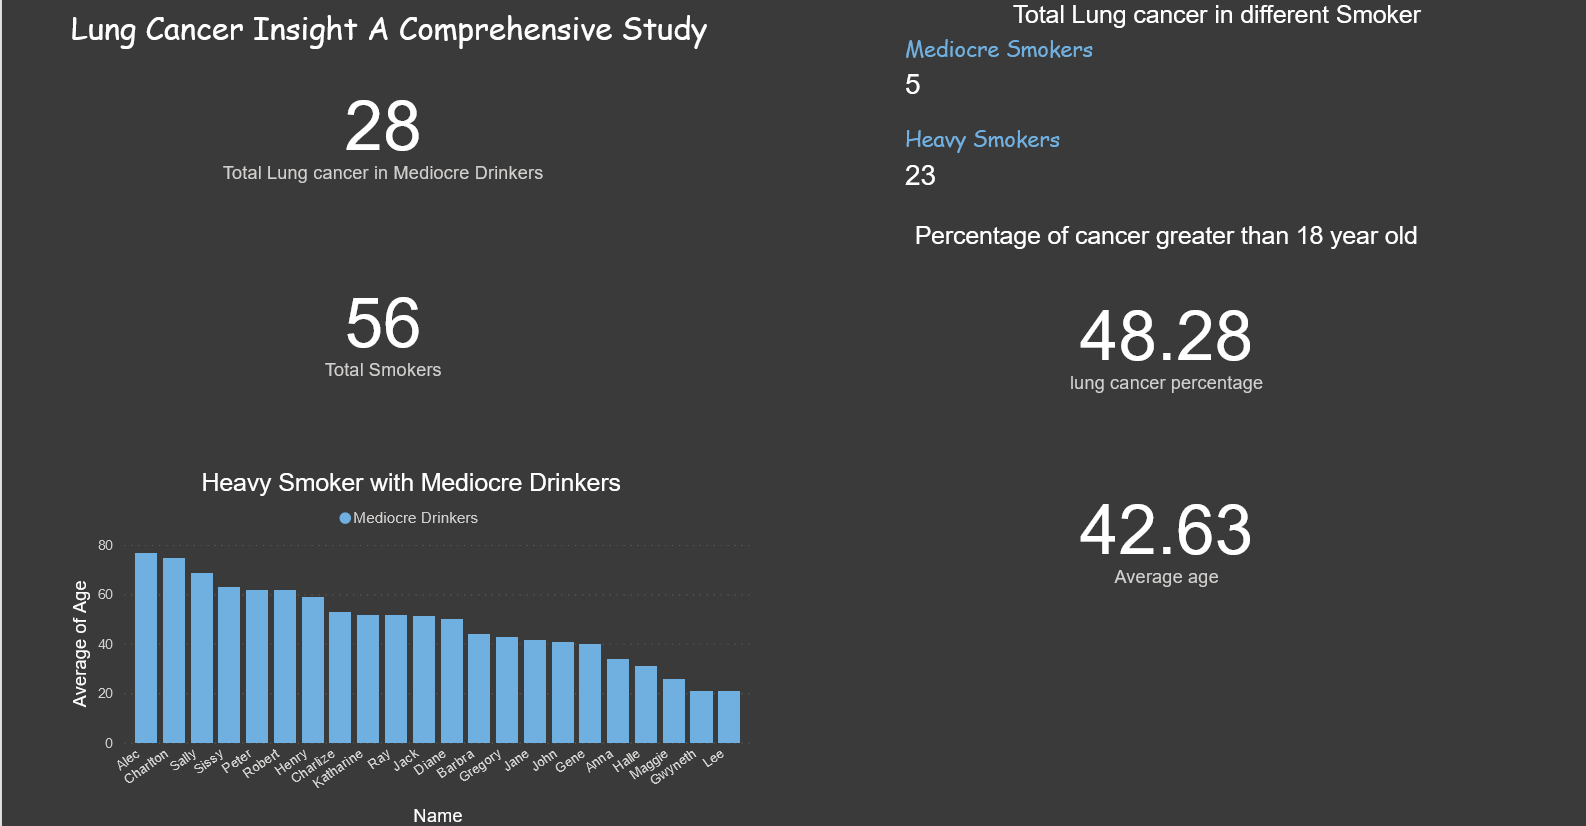

The dashboard page shown, as its layout file describes it:
{"tool":"powerbi","page":{"name":"Page 1","canvas":[1280,720],"ordinal":0},"visuals":[{"type":"textbox","box":[9.6,0,599.1,57.6],"z":0},{"type":"card","fields":{"Values":["cancer with different Alchol.lung_cancer_count"]},"box":[9.6,57.6,549.8,109.7],"z":1},{"type":"multiRowCard","title":"Total Lung cancer in different Smoker","fields":{"Values":["cancer with different Smoker.Smoking_Category","cancer with different Smoker.lung_cancer_count"]},"box":[730.8,0,549.8,191.9],"z":2},{"type":"columnChart","title":"Heavy Smoker with Mediocre Drinkers","fields":{"Category":["Heavy Smoker and mediocre Drink.Name"],"Y":["Heavy Smoker and mediocre Drink.Age"],"Series":["lung_cancer.Alcohol_Category"]},"box":[9.6,404.5,599.1,315.3],"z":3},{"type":"card","title":"Percentage of cancer greater than 18 year old","fields":{"Values":["percent of greater than 18.lung_cancer_percentage"]},"box":[663.6,191.9,599.1,182.3],"z":4},{"type":"card","fields":{"Values":["the average age of individuals.average_age"]},"box":[663.6,360.6,599.1,202.9],"z":5},{"type":"card","fields":{"Values":["Total Smokers.total_smokers"]},"box":[10,192,550,182],"z":6}]}

Visuals, with their boxes on the page's 1280x720 design canvas (x1, y1, x2, y2). These are canvas units, not pixel positions in the 1586x826 screenshot, which may show the page scaled, cropped or inside an application window:
textbox: <box>10,0,609,58</box>
card - cancer with different Alchol.lung_cancer_count: <box>10,58,559,167</box>
"Total Lung cancer in different Smoker" multiRowCard: <box>731,0,1281,192</box>
"Heavy Smoker with Mediocre Drinkers" columnChart: <box>10,404,609,720</box>
"Percentage of cancer greater than 18 year old" card: <box>664,192,1263,374</box>
card - the average age of individuals.average_age: <box>664,361,1263,564</box>
card - Total Smokers.total_smokers: <box>10,192,560,374</box>
